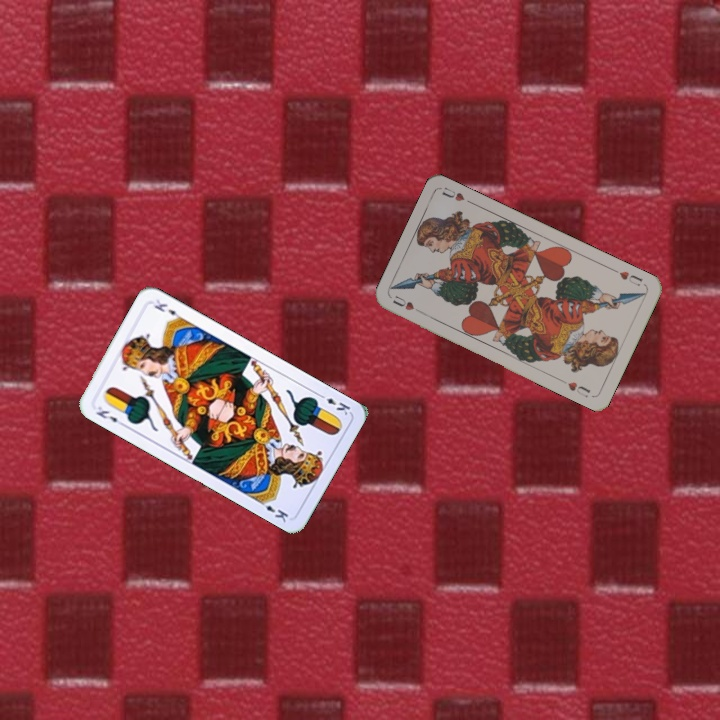EK: (314, 390, 353, 418), (92, 402, 127, 429)
HU: (389, 291, 426, 316), (615, 267, 645, 289)
